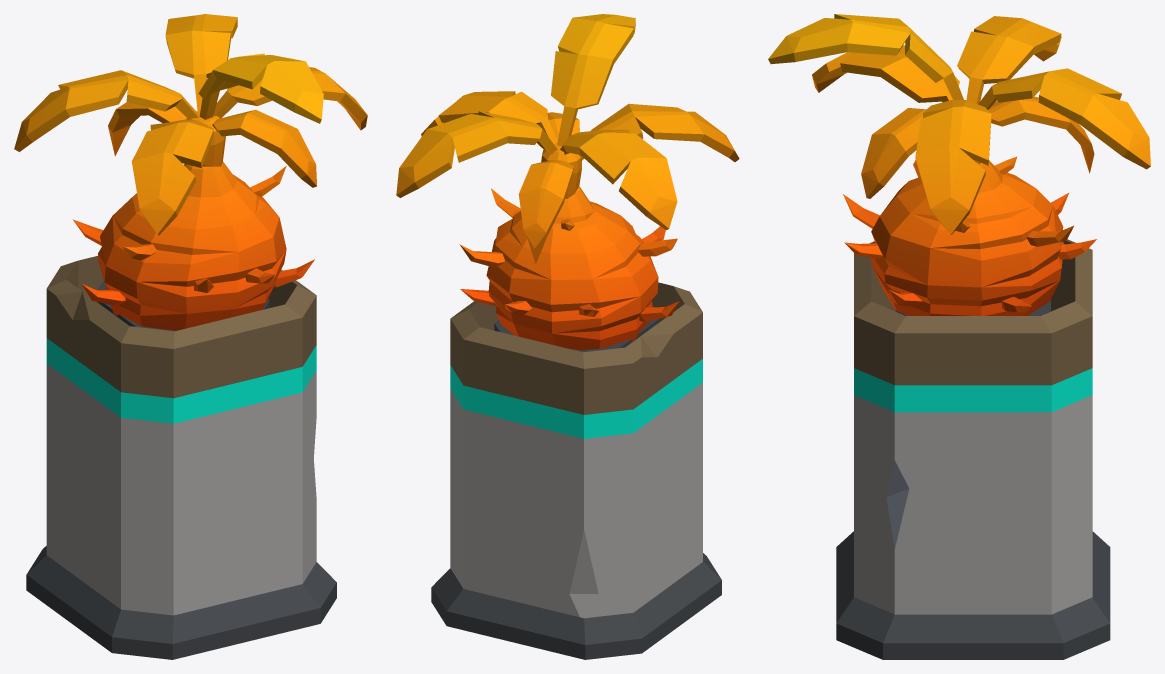
File: SM_Prop_Holo_Planter_01.fbx
3 views of the same model, side by side, from view 1: azimuth 30°, elevation 25°; view 2: azimuth 150°, elevation 25°; view 3: azimuth 270°, elevation 25° (orthographic). The views are drawn at different scales.
Visible parts, largest first — view 1: SM_Prop_Holo_Planter_01, SM_Prop_Holo_Planter_01_Foliage; view 2: SM_Prop_Holo_Planter_01, SM_Prop_Holo_Planter_01_Foliage; view 3: SM_Prop_Holo_Planter_01, SM_Prop_Holo_Planter_01_Foliage.
Part boxes in pixels (box(x1,y1,x2,y2)): SM_Prop_Holo_Planter_01: box(26, 256, 336, 659); SM_Prop_Holo_Planter_01_Foliage: box(14, 14, 367, 330); SM_Prop_Holo_Planter_01: box(431, 282, 721, 659); SM_Prop_Holo_Planter_01_Foliage: box(396, 14, 739, 350); SM_Prop_Holo_Planter_01: box(836, 239, 1110, 659); SM_Prop_Holo_Planter_01_Foliage: box(768, 14, 1150, 315).
Bounding box in the file's own units: 86.38 × 152 × 88.49.
